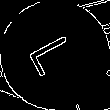L_NE: (26, 30, 84, 80)
